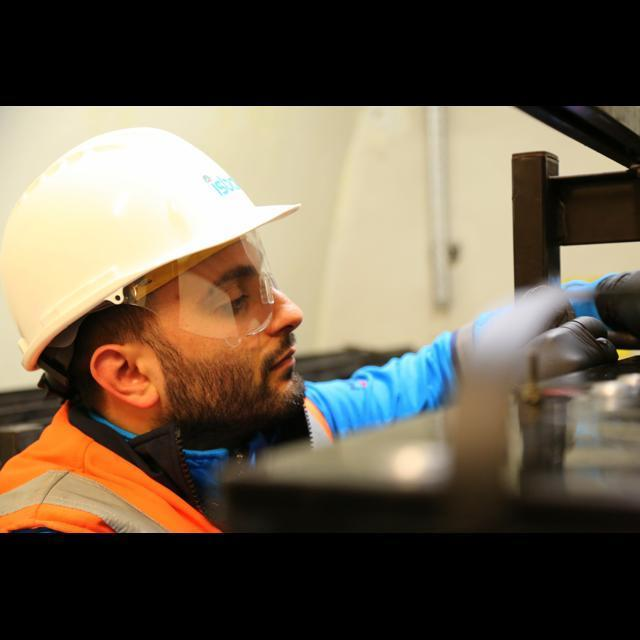helmet: (0, 122, 310, 350)
safety_vest: (0, 408, 221, 562)
